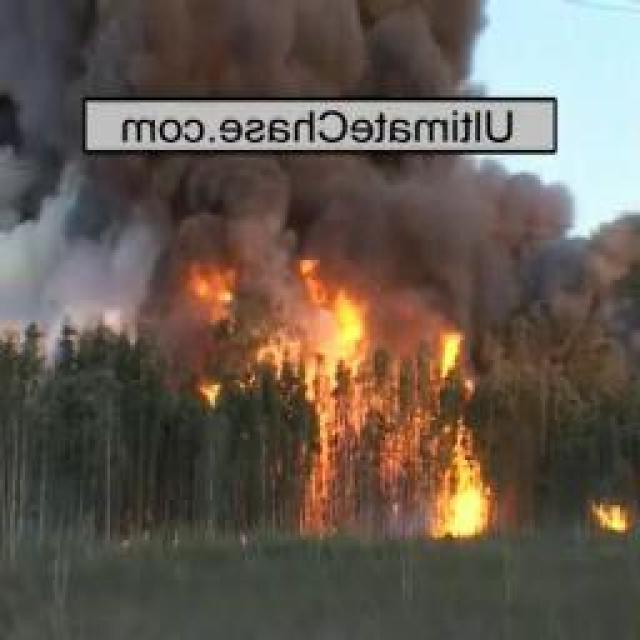Fire: (304, 316, 501, 543), (182, 258, 244, 370), (591, 492, 634, 534)
